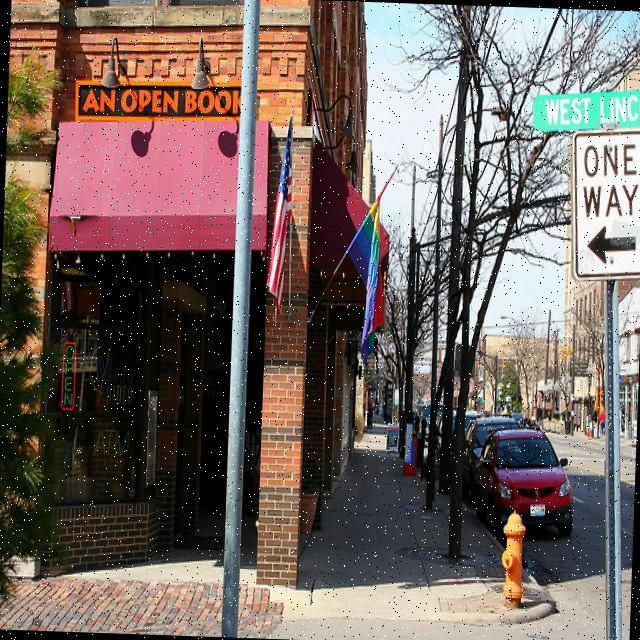fire_hydrant: (498, 508, 528, 606)
